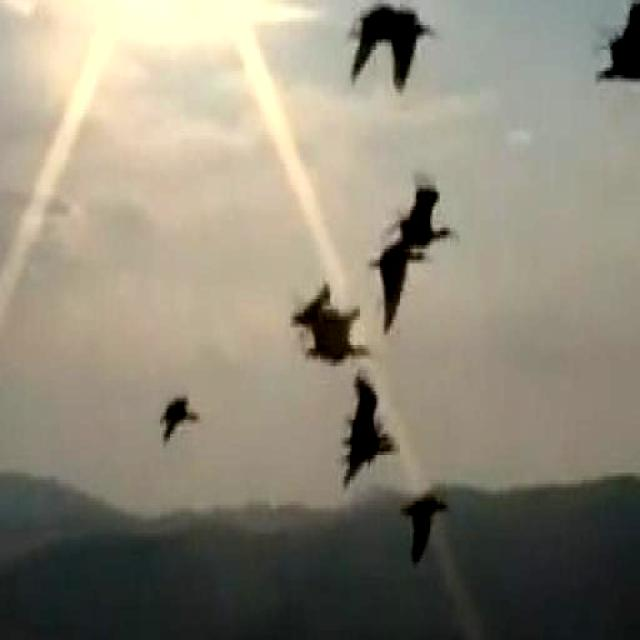airplane: (351, 0, 436, 88), (349, 356, 402, 488), (408, 466, 446, 571), (604, 0, 640, 101)
